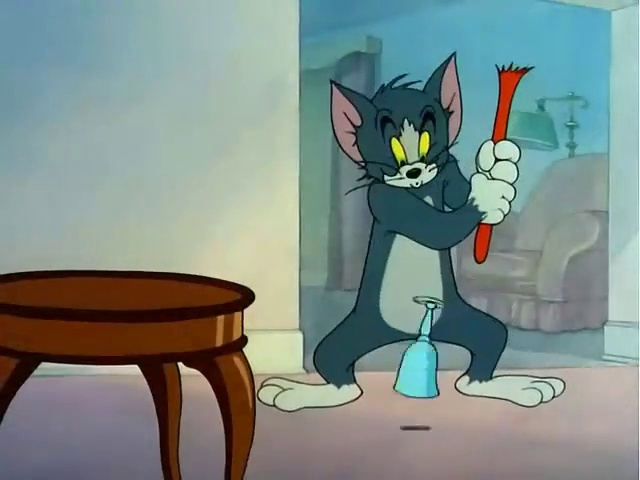tom: (285, 29, 603, 428)
